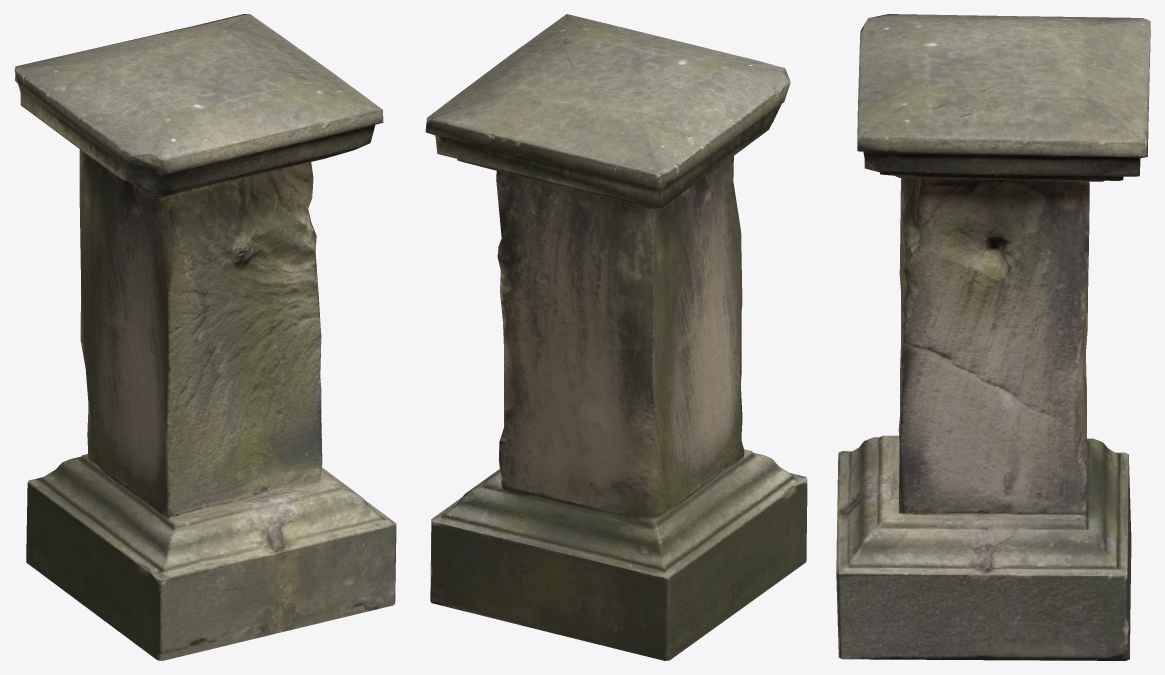
Rendered from sm_PlatformColumns_01_03.fbx.
3 renders of one model, left to right at view 1: azimuth 30°, elevation 25°; view 2: azimuth 150°, elevation 25°; view 3: azimuth 270°, elevation 25°, orthographic. The views are drawn at different scales.
Parts seen in each view (by area): view 1: sm_PlatformColumns_01_03_LOD0; view 2: sm_PlatformColumns_01_03_LOD0; view 3: sm_PlatformColumns_01_03_LOD0.
Boxes of the visible parts, x1,y1,x2,y2 form: sm_PlatformColumns_01_03_LOD0: (14,14,396,660); sm_PlatformColumns_01_03_LOD0: (425,14,807,660); sm_PlatformColumns_01_03_LOD0: (836,14,1150,660).
Bounding box in the file's own units: 46.34 × 48.61 × 91.35.
